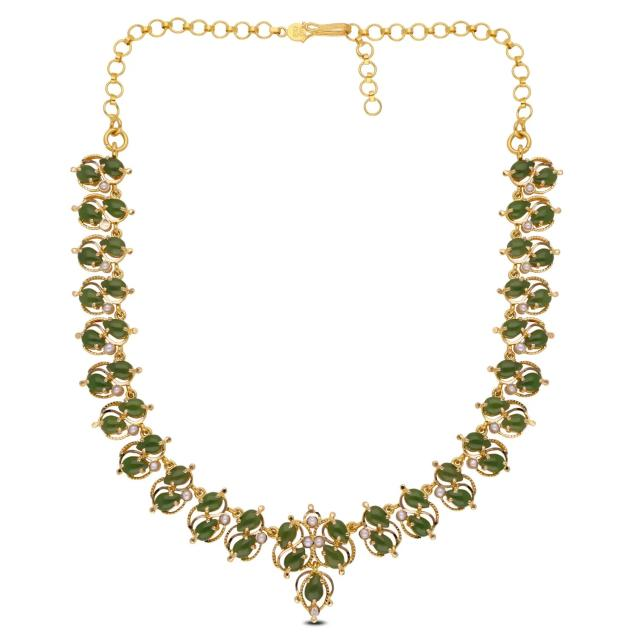missing gem: (100, 220, 110, 229), (310, 607, 318, 616)
